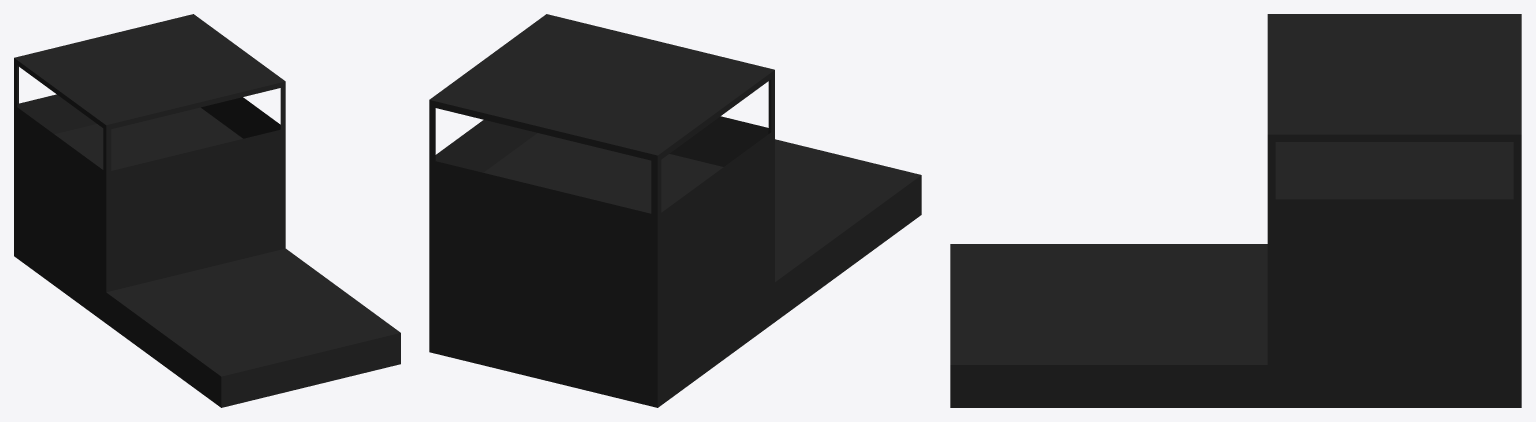
File: truck.glb
3 views of the same model, side by side, from view 1: azimuth 30°, elevation 25°; view 2: azimuth 150°, elevation 25°; view 3: azimuth 270°, elevation 25° (orthographic). The views are drawn at different scales.
Parts seen in each view (by area): view 1: vehicles/truck; view 2: vehicles/truck; view 3: vehicles/truck.
Boxes of the visible parts, x1,y1,x2,y2 form: vehicles/truck: [14, 14, 400, 407]; vehicles/truck: [429, 14, 921, 407]; vehicles/truck: [950, 14, 1521, 407].
Size of the model in its own units: 2.25 by 2.37 by 4.5.
2 materials, 2 textured.
